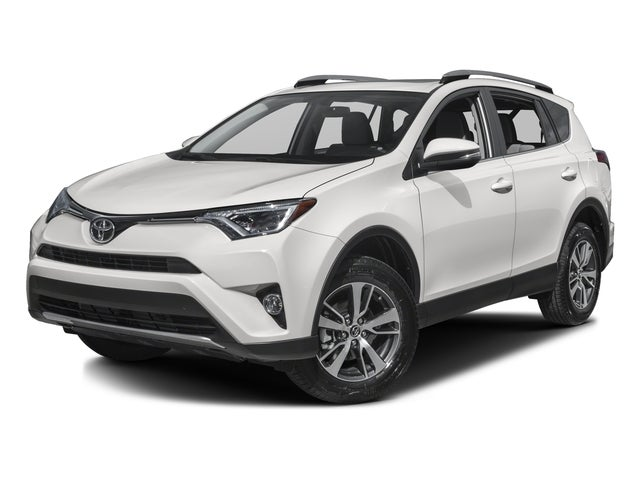Toyota RAV-4: (25, 77, 615, 406)
